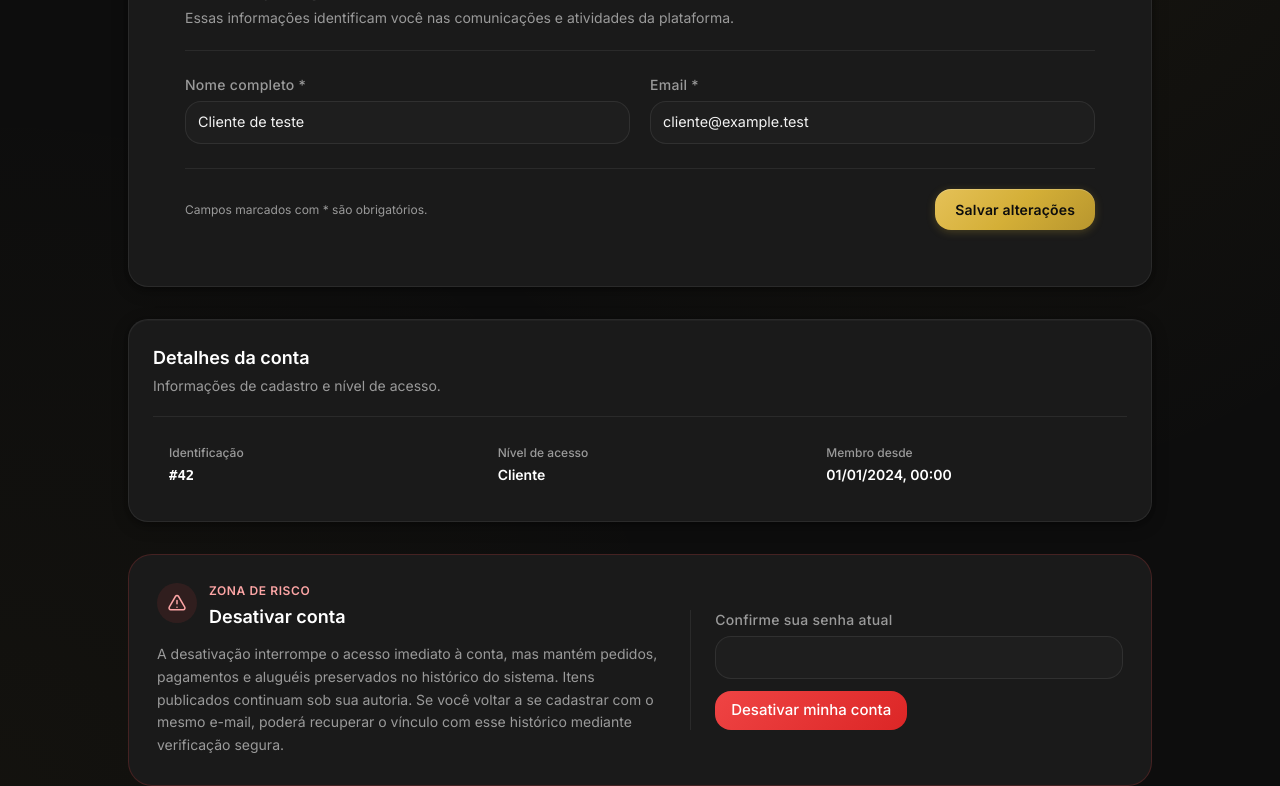
Scenario: Profile account deletion › requires a password and does not open confirmation when it is missing
The image size is (1280, 786).
(page scrolled)
Click the button "Desativar minha conta".
click(811, 711)  # box top-left (715, 692), bottom-right (907, 730)
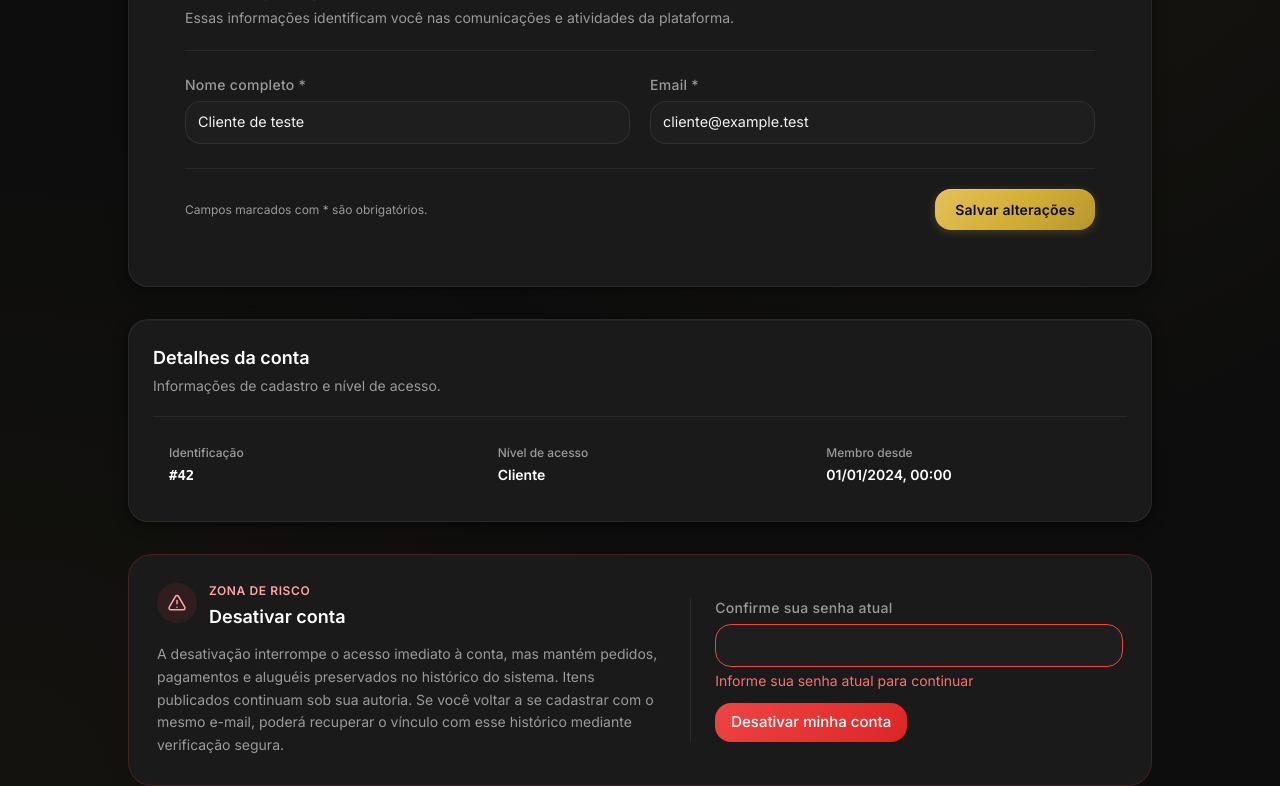
Now the text "Informe sua senha atual para continuar" is shown, box top-left (715, 672), bottom-right (974, 690)
